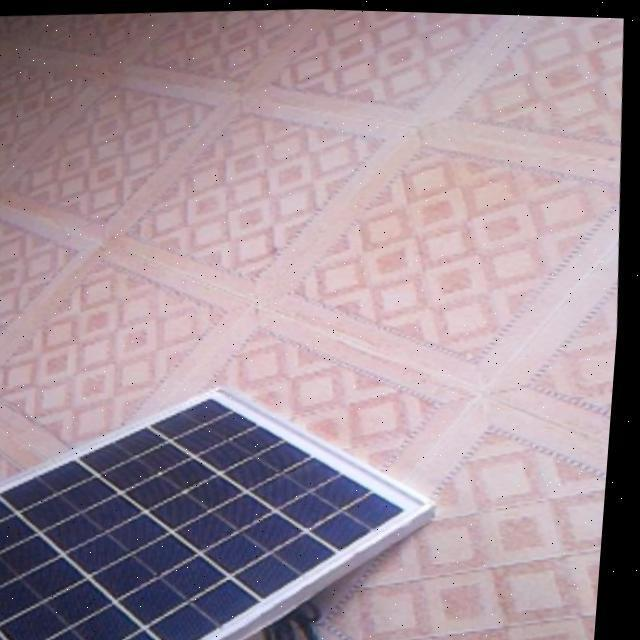Normal Solar Panel: (0, 374, 453, 640)
